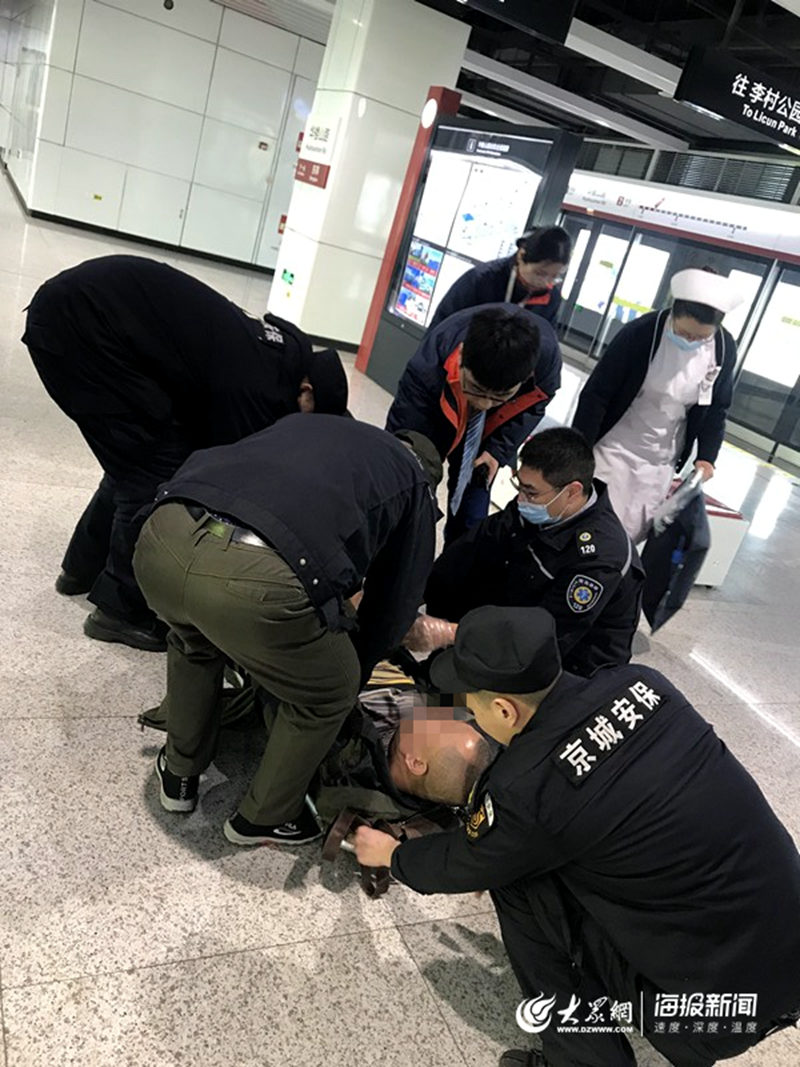fall: (204, 589, 516, 838)
